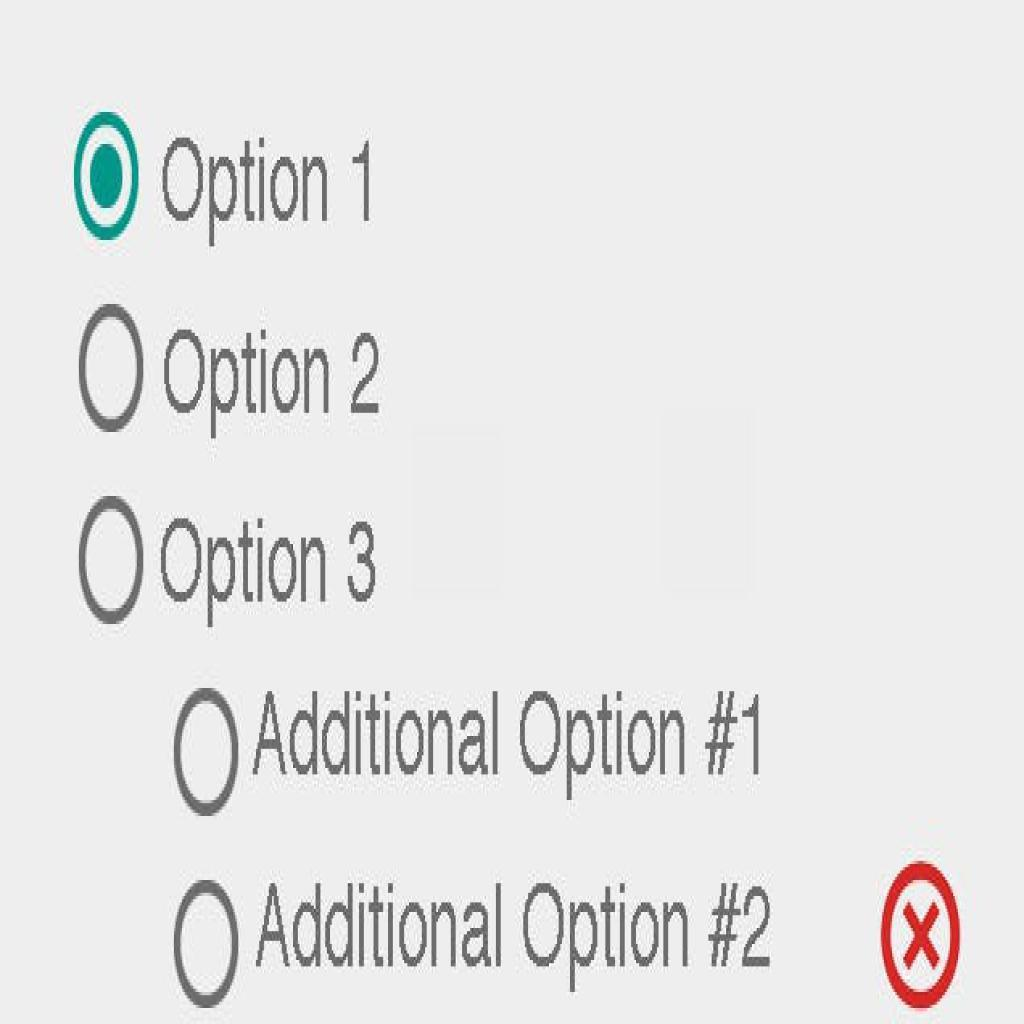label: (250, 880, 775, 997), (251, 690, 771, 800), (158, 125, 381, 254), (160, 324, 388, 442), (155, 515, 381, 627)
radio: (171, 877, 241, 1015), (171, 685, 241, 820), (77, 304, 148, 435), (78, 495, 148, 627), (73, 109, 140, 246)
